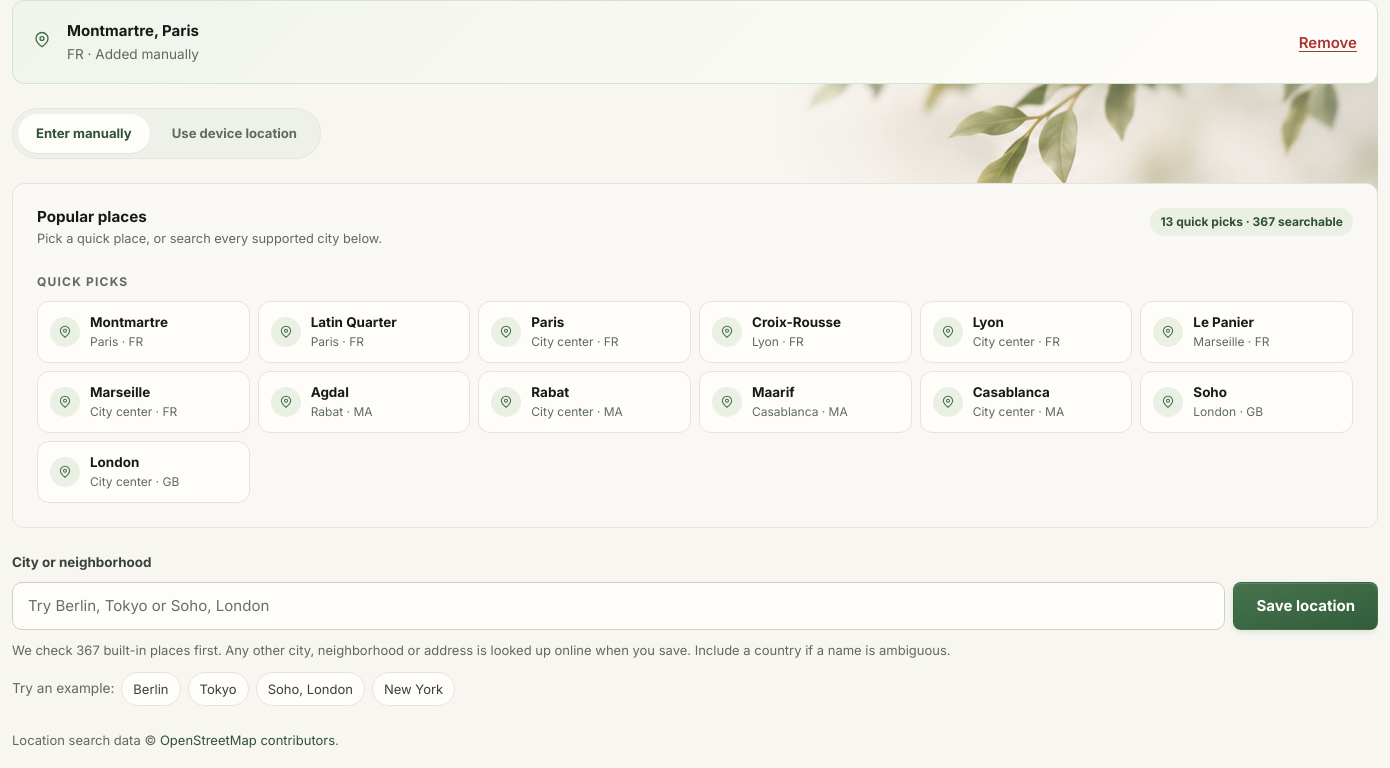
Test: location attribution is visible in both manual and consented GPS modes
The width and height of the screenshot is (1390, 768).
Step 1. Click the tab "Use device location" → (234, 133), box [154,114,315,153]
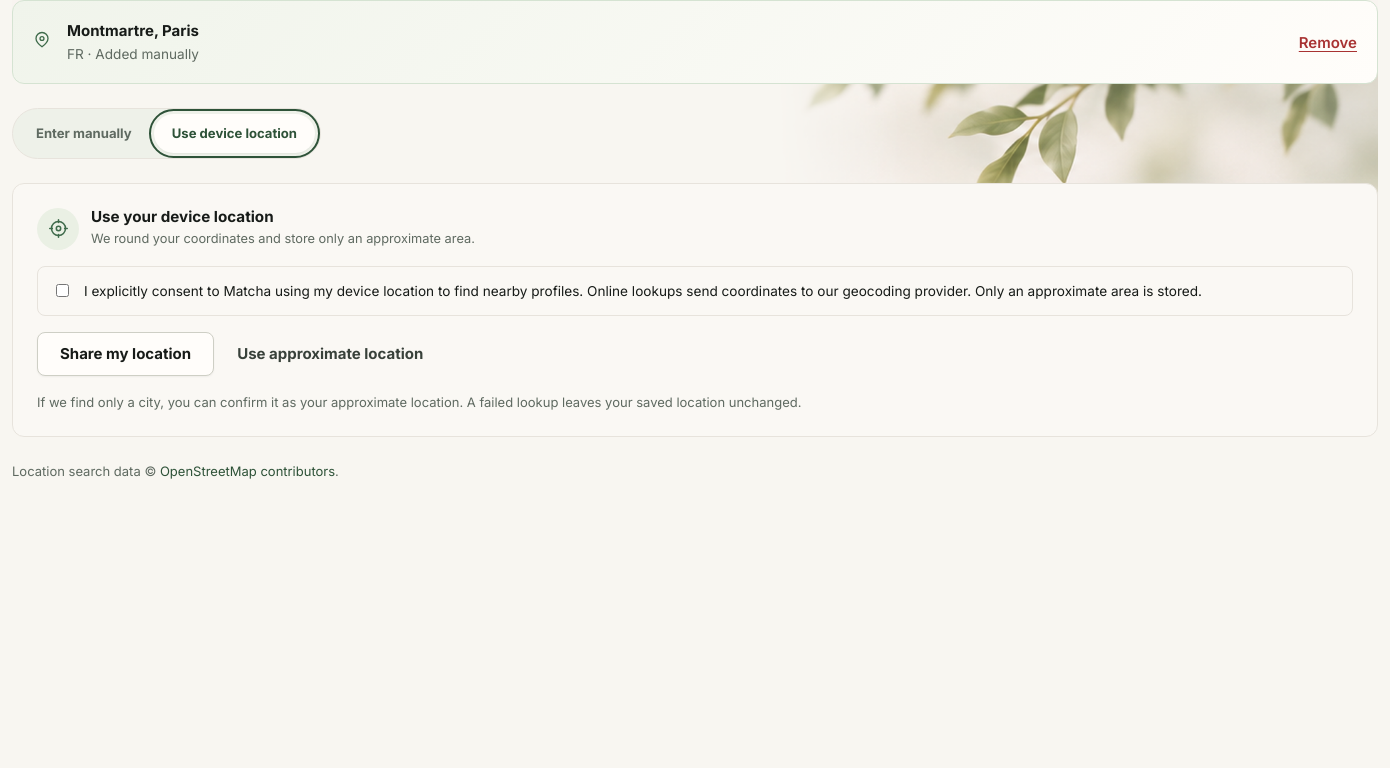
Expected: the link "OpenStreetMap contributors" is shown, [160,463,335,479]
Expected: the text "Online lookups send coordinates to our geocoding provider" is shown, [84,283,1202,299]
